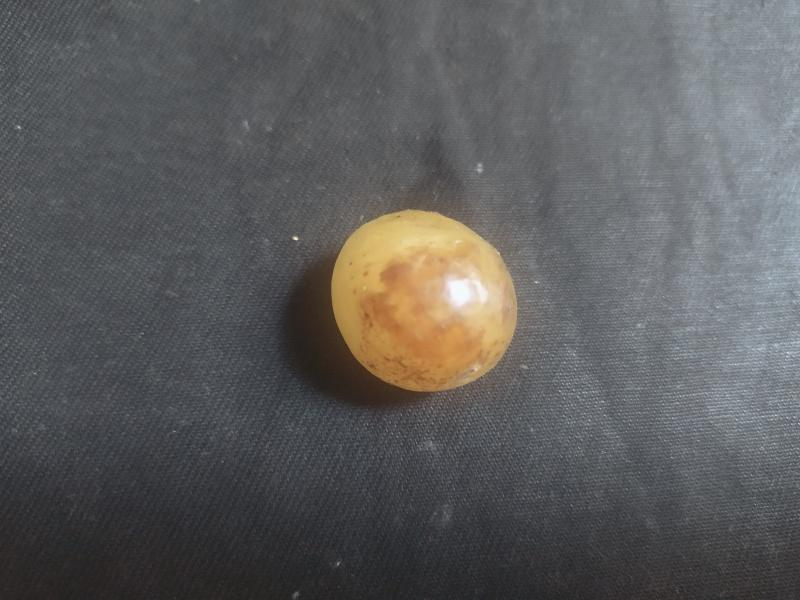Grape Rotten: (330, 205, 520, 395)
